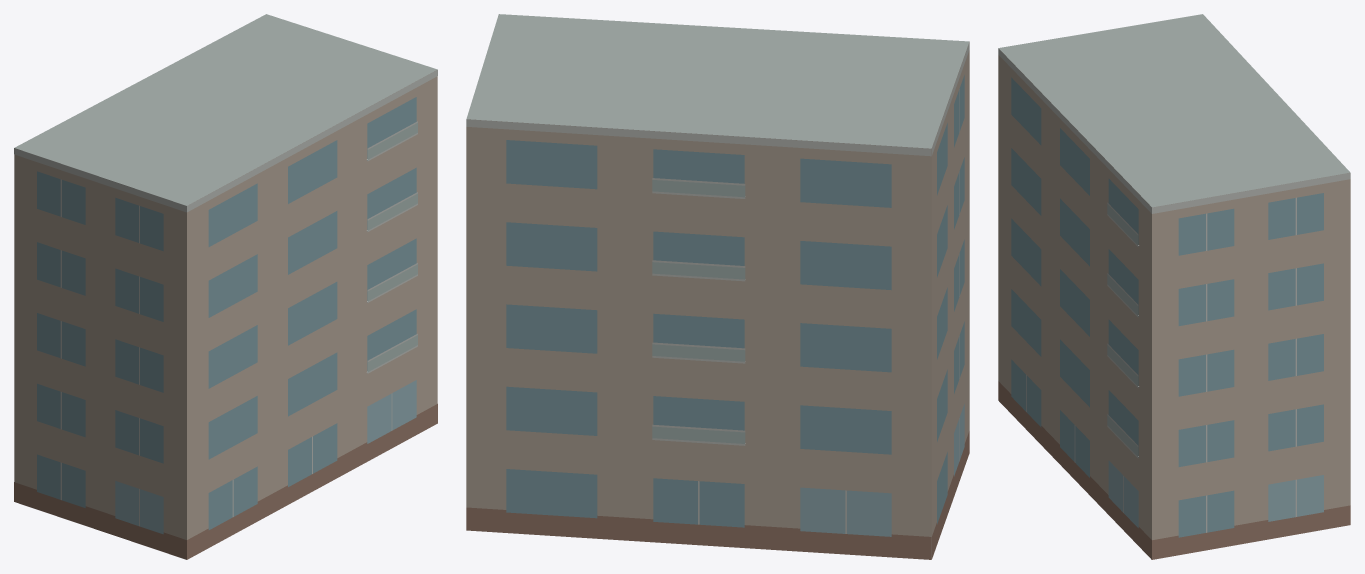
File: survey-upis-32853874.glb
3 views of the same model, side by side, from view 1: azimuth 30°, elevation 25°; view 2: azimuth 150°, elevation 25°; view 3: azimuth 270°, elevation 25° (orthographic). The views are drawn at different scales.
Visible parts, largest first — view 1: survey-upis-32853874.tmp; view 2: survey-upis-32853874.tmp; view 3: survey-upis-32853874.tmp.
Boxes of the visible parts, x1=… form: survey-upis-32853874.tmp: x1=14, y1=14, x2=437, y2=559; survey-upis-32853874.tmp: x1=466, y1=14, x2=969, y2=559; survey-upis-32853874.tmp: x1=998, y1=14, x2=1350, y2=559.
Bounding box in the file's own units: 15.49 × 13.15 × 11.92.
